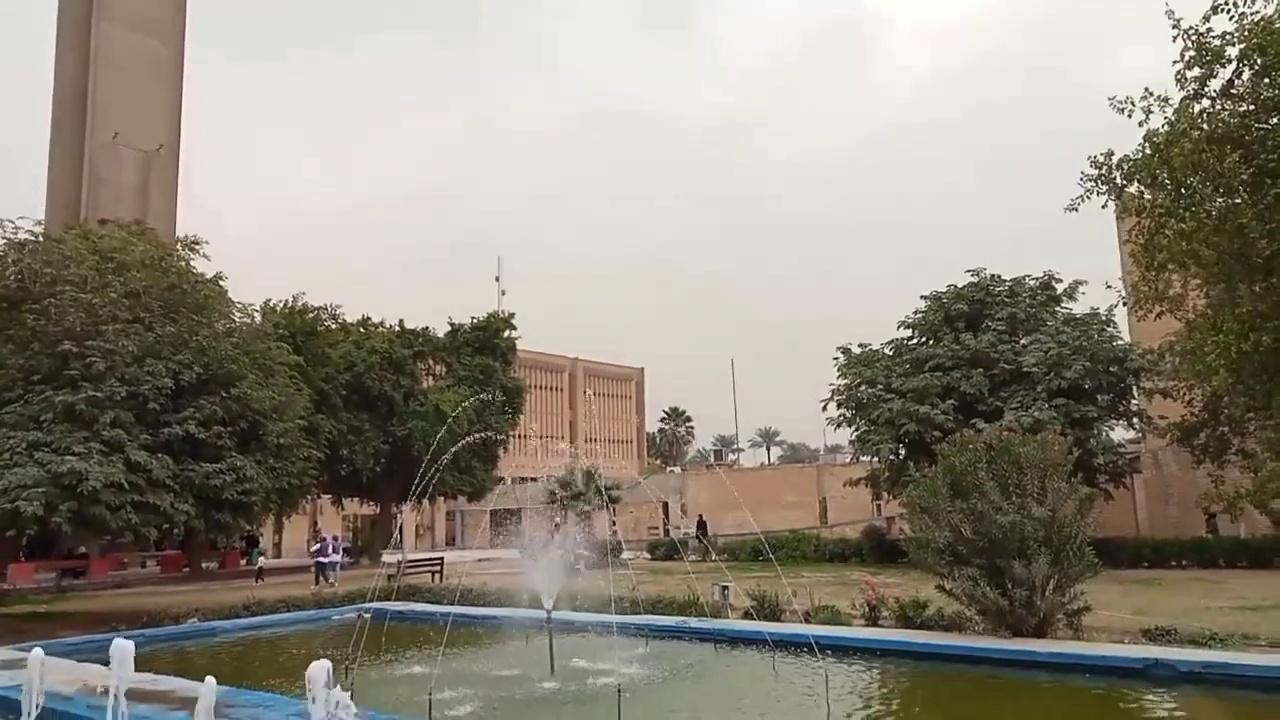fountain: (2, 389, 1277, 717)
person: (309, 534, 334, 589), (327, 534, 344, 586), (694, 513, 709, 561), (253, 549, 267, 584)
tree: (1063, 0, 1279, 536), (0, 213, 320, 572), (819, 265, 1161, 528), (314, 301, 525, 559), (898, 422, 1104, 639), (539, 459, 622, 563), (1193, 483, 1245, 537), (653, 404, 695, 469), (746, 424, 781, 464), (776, 439, 819, 464), (709, 431, 742, 462), (688, 444, 711, 464)
